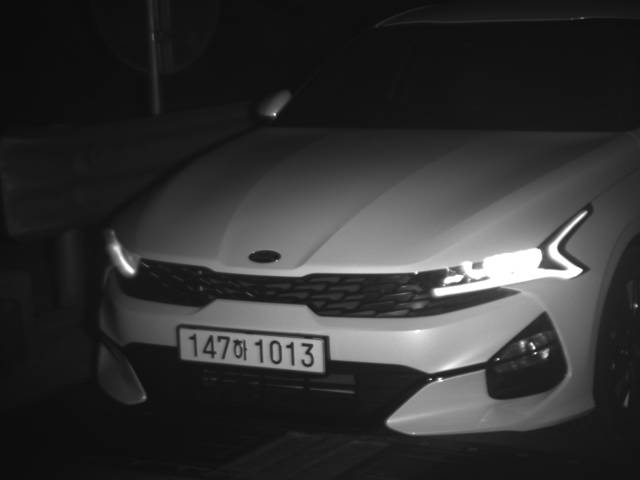car: (90, 1, 638, 440)
plate: (175, 320, 333, 379)
